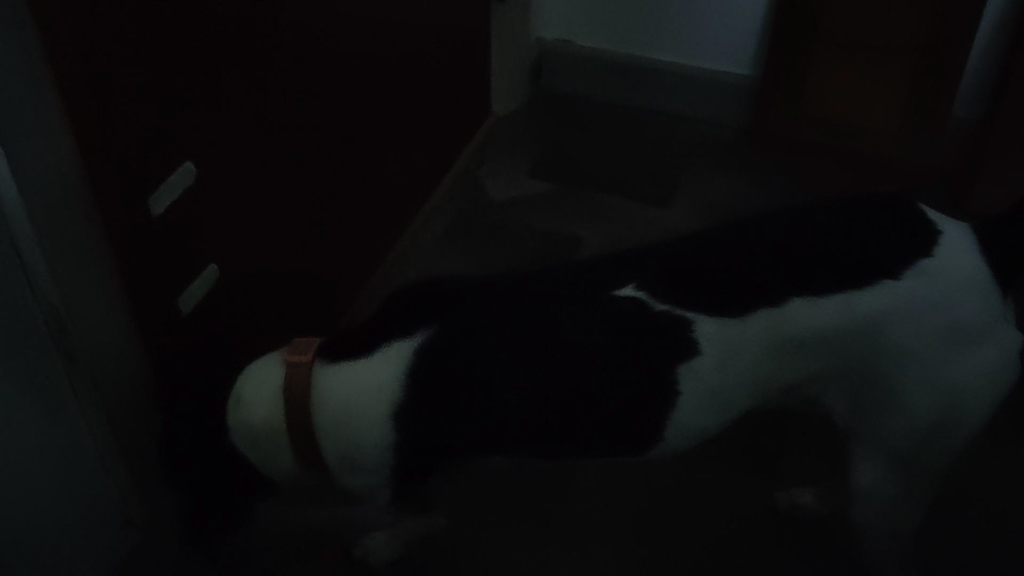Dog: (145, 152, 1024, 576)
